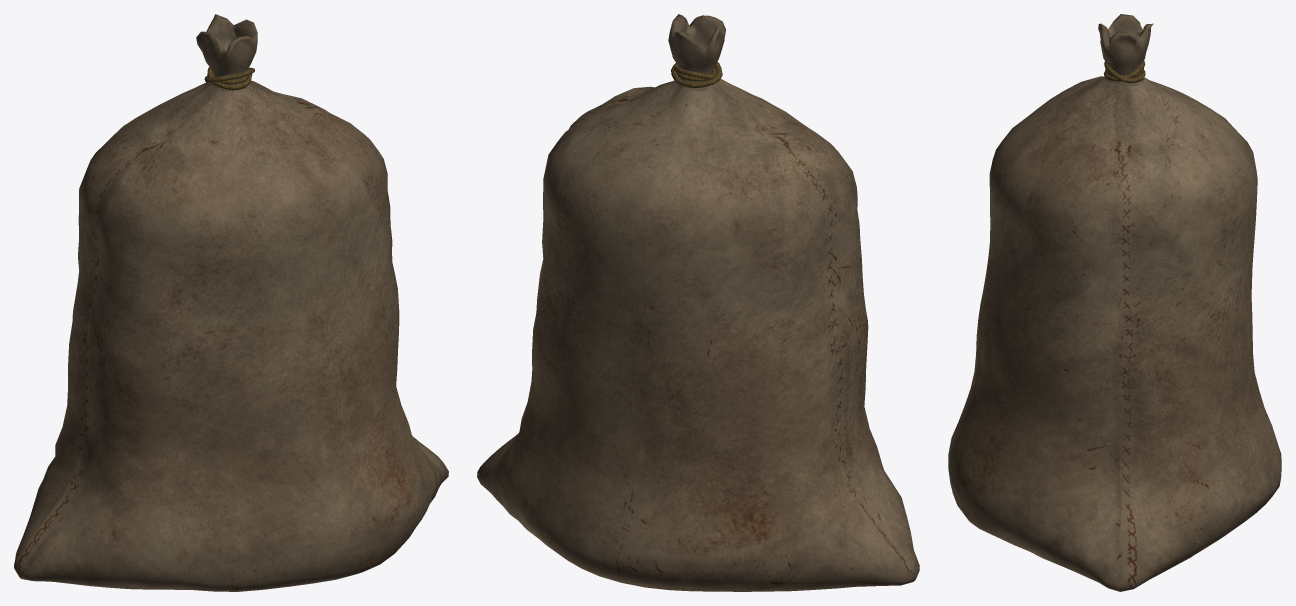
File: bagg.fbx
3 renders of one model, left to right at view 1: azimuth 30°, elevation 25°; view 2: azimuth 150°, elevation 25°; view 3: azimuth 270°, elevation 25°, orthographic. The views are drawn at different scales.
Parts seen in each view (by area): view 1: Bag; view 2: Bag; view 3: Bag.
Boxes of the visible parts, left/top/right/bottom form: Bag: left=14, top=14, right=448, bottom=591; Bag: left=477, top=14, right=919, bottom=591; Bag: left=948, top=14, right=1281, bottom=591.
Size of the model in its own units: 241 by 275 by 173.
Materials: 1 (1 with a texture image).
